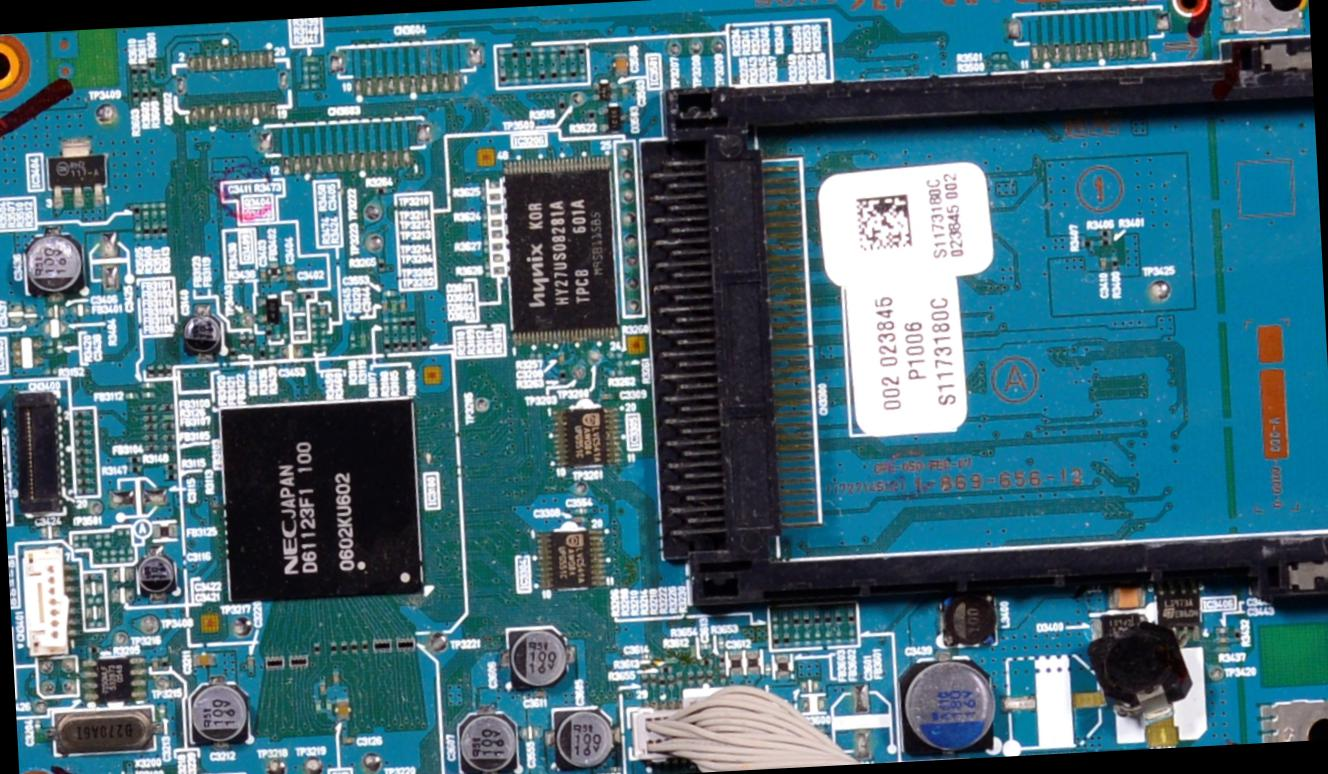Capacitor Jumper: (20, 234, 88, 300), (189, 681, 252, 746), (138, 548, 179, 598), (184, 314, 222, 360), (725, 649, 765, 676), (519, 722, 545, 744), (335, 695, 354, 724), (613, 50, 630, 78), (112, 588, 138, 604), (112, 567, 136, 584), (192, 653, 216, 669), (279, 346, 302, 358), (246, 653, 256, 680), (86, 606, 104, 620), (316, 676, 328, 696), (48, 304, 65, 318), (86, 583, 105, 595), (8, 310, 25, 323), (555, 348, 566, 368), (597, 390, 617, 401), (620, 81, 632, 99), (330, 668, 340, 687), (285, 264, 295, 282), (28, 308, 38, 326), (569, 505, 591, 513), (319, 304, 328, 322), (258, 268, 268, 284), (570, 514, 588, 522), (158, 704, 167, 720), (284, 293, 298, 303), (398, 300, 408, 314), (152, 658, 160, 672), (638, 652, 654, 659), (57, 340, 63, 357), (382, 300, 388, 312)
Connector: (17, 388, 70, 518), (21, 542, 74, 656)
IC: (217, 399, 439, 606), (504, 150, 626, 341), (530, 524, 610, 597), (554, 402, 620, 468), (82, 656, 150, 703), (83, 656, 147, 703), (46, 152, 112, 192), (1154, 589, 1208, 629), (13, 338, 42, 370), (597, 78, 618, 100)
Resistor Jumper: (359, 634, 371, 656), (781, 610, 792, 632), (326, 636, 338, 656), (698, 656, 717, 668), (86, 620, 108, 630), (292, 312, 304, 330), (584, 107, 598, 122), (383, 286, 400, 298), (992, 62, 1012, 72), (557, 96, 567, 116), (339, 636, 349, 656), (615, 358, 626, 376), (846, 628, 858, 644), (534, 46, 546, 62), (299, 74, 323, 82), (992, 50, 1009, 61), (556, 369, 568, 384), (126, 466, 146, 475), (324, 699, 334, 717), (263, 325, 274, 341), (258, 344, 268, 361), (312, 640, 322, 657), (300, 83, 324, 90), (675, 671, 686, 686), (86, 597, 104, 606), (313, 700, 322, 718), (372, 188, 392, 196), (142, 224, 152, 240), (292, 332, 308, 342), (824, 628, 834, 644), (696, 666, 704, 686), (548, 46, 556, 66), (568, 44, 577, 61), (160, 203, 168, 222), (772, 612, 780, 631), (302, 66, 321, 74), (699, 642, 714, 652), (149, 87, 159, 102), (134, 222, 142, 240), (490, 243, 506, 252), (229, 346, 238, 362), (94, 534, 102, 552), (118, 546, 126, 564), (303, 57, 319, 66), (716, 635, 725, 651), (793, 630, 801, 648), (489, 218, 503, 228), (268, 346, 278, 360), (108, 551, 118, 565), (142, 203, 150, 220), (161, 223, 169, 240), (409, 314, 417, 331), (804, 628, 812, 645), (835, 627, 843, 644), (310, 304, 318, 320), (47, 341, 55, 357), (72, 534, 80, 550), (497, 47, 505, 63), (651, 674, 659, 690), (512, 68, 520, 84), (151, 202, 158, 220), (383, 316, 390, 334), (420, 337, 429, 351), (104, 532, 111, 550), (815, 629, 822, 647), (128, 456, 143, 464), (148, 56, 156, 71), (130, 64, 138, 79), (140, 65, 148, 80), (688, 669, 695, 686), (132, 205, 140, 219), (378, 258, 386, 272), (302, 294, 316, 302), (390, 300, 398, 314), (401, 317, 408, 333), (310, 324, 318, 338), (403, 336, 410, 352), (608, 350, 622, 358), (163, 463, 177, 471), (127, 546, 134, 562), (100, 552, 108, 566), (141, 90, 149, 104), (526, 70, 533, 86), (352, 636, 357, 658), (560, 64, 566, 82), (393, 338, 400, 353), (493, 266, 506, 274), (580, 65, 586, 82), (489, 194, 503, 201), (320, 324, 327, 338), (410, 336, 417, 350), (46, 368, 58, 376), (1236, 628, 1242, 644), (666, 676, 674, 688), (133, 88, 139, 104), (82, 534, 89, 547), (154, 224, 160, 239), (392, 318, 398, 332), (312, 340, 319, 352), (322, 340, 328, 354), (384, 339, 390, 353), (166, 476, 178, 483), (708, 670, 714, 684), (163, 658, 169, 670), (642, 676, 648, 688)
